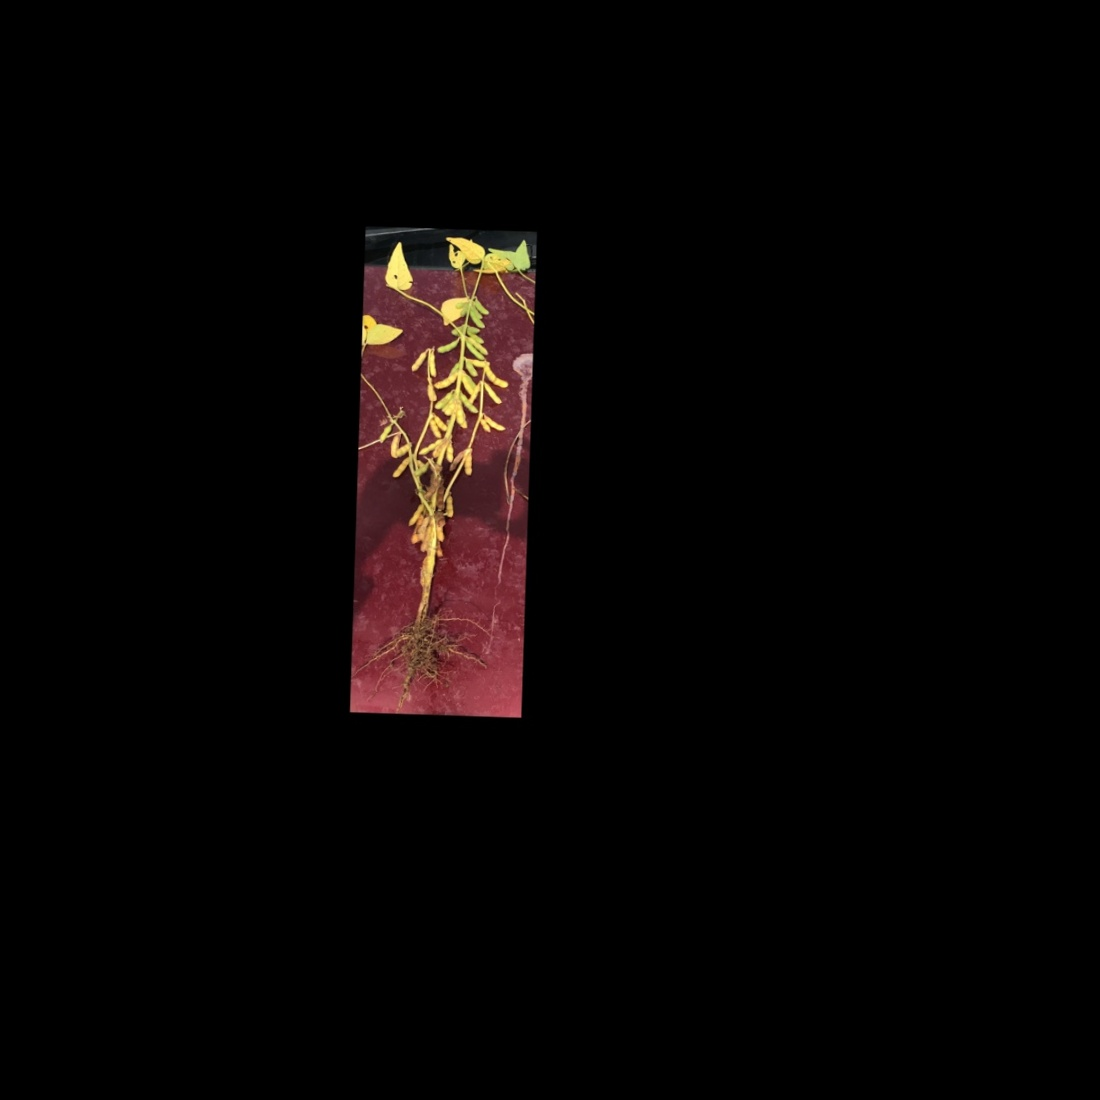pod: (480, 361, 511, 390), (388, 454, 413, 483), (416, 434, 446, 457), (482, 411, 510, 433), (407, 348, 429, 376), (458, 389, 480, 415), (435, 335, 463, 356), (462, 340, 488, 363), (463, 335, 489, 358), (432, 368, 457, 390), (422, 416, 444, 439), (405, 503, 425, 528), (482, 383, 504, 405), (466, 307, 488, 330), (461, 449, 477, 479), (426, 346, 440, 377), (462, 357, 480, 381), (434, 337, 460, 354), (390, 440, 415, 455), (442, 438, 455, 466), (472, 299, 492, 316), (444, 492, 456, 518)
soy: (361, 241, 531, 697)
